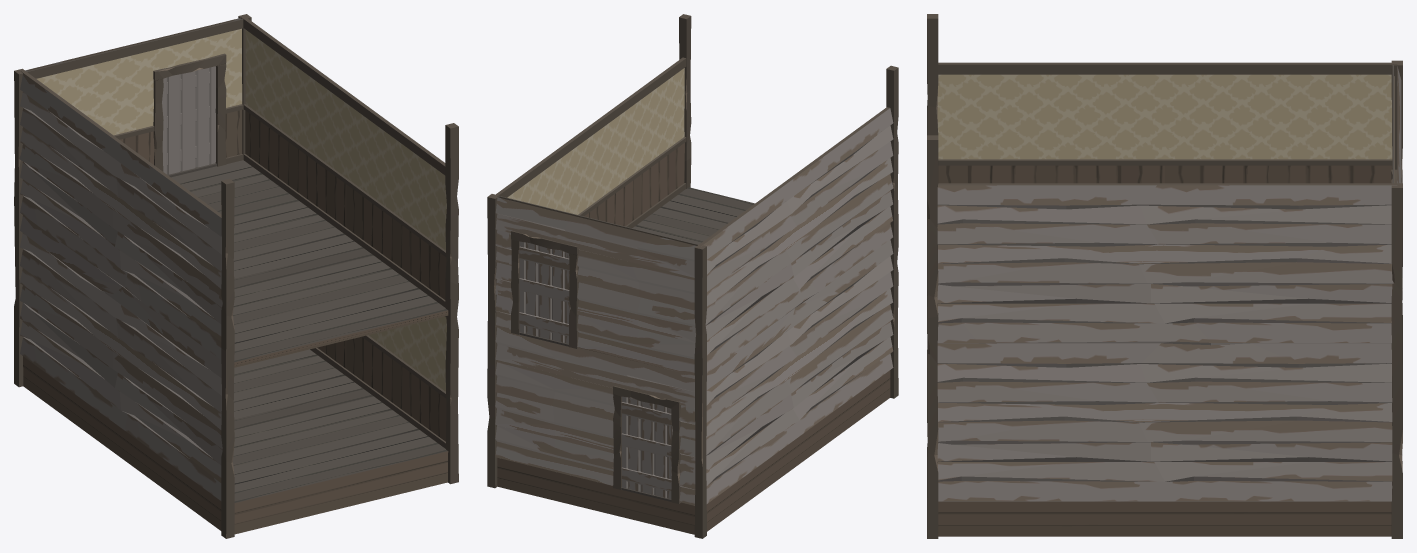
Rendered from SM_Bld_Double_02.fbx.
The picture shows the model from 3 angles, left to right: view 1: azimuth 30°, elevation 25°; view 2: azimuth 150°, elevation 25°; view 3: azimuth 270°, elevation 25°; orthographic projection. The views are drawn at different scales.
Parts seen in each view (by area): view 1: SM_Bld_Double_02, SM_Bld_Double_BackDoor_04; view 2: SM_Bld_Double_02, SM_Bld_Double_BackDoor_04, SM_Bld_Double_BackDoor_03; view 3: SM_Bld_Double_02.
Part boxes in pixels (x1,y1,x2,y2): SM_Bld_Double_02: (14, 14, 458, 538); SM_Bld_Double_BackDoor_04: (162, 66, 215, 174); SM_Bld_Double_02: (487, 14, 898, 538); SM_Bld_Double_BackDoor_04: (519, 241, 570, 343); SM_Bld_Double_BackDoor_03: (621, 396, 672, 499); SM_Bld_Double_02: (927, 14, 1402, 538).
Bounding box in the file's own units: 519 × 758 × 819.
1 material, 1 textured.
